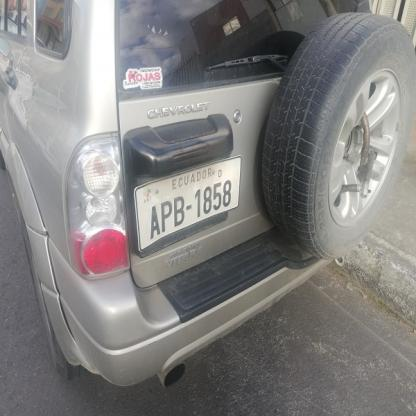Placa: (132, 157, 246, 247)
